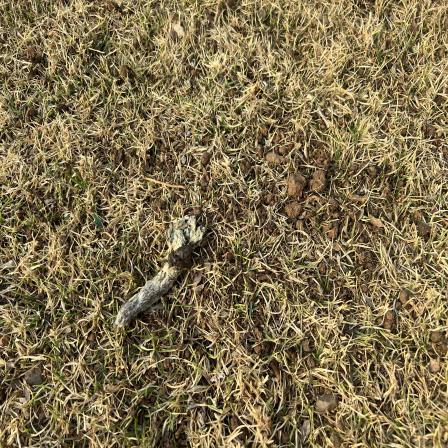dog-poop: (88, 206, 232, 332)
